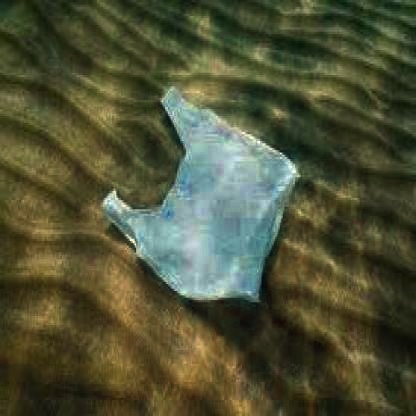pbag: (100, 84, 301, 307)
